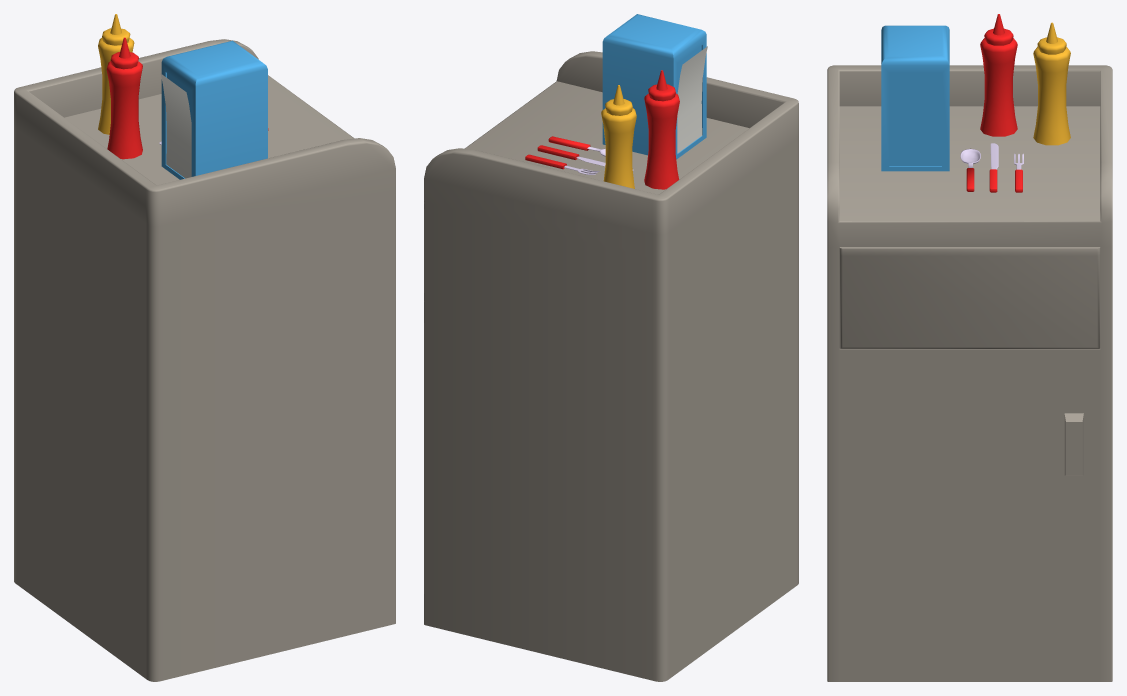
The model's file is service_table.fbx.
The picture shows the model from 3 angles, left to right: view 1: azimuth 30°, elevation 25°; view 2: azimuth 150°, elevation 25°; view 3: azimuth 270°, elevation 25°; orthographic projection. The views are drawn at different scales.
Parts seen in each view (by area): view 1: Trash, Nap_Dispenser, Ketchup, Mustard; view 2: Trash, Nap_Dispenser, Ketchup, Mustard; view 3: Trash, Nap_Dispenser, Mustard, Ketchup, Spoon.
Boxes of the visible parts, x1,y1,x2,y2 form: Trash: (14,39,395,681); Nap_Dispenser: (160,40,267,179); Ketchup: (106,37,142,159); Mustard: (98,14,134,134); Trash: (424,51,798,681); Nap_Dispenser: (602,14,707,159); Ketchup: (644,70,679,189); Mustard: (601,85,636,188); Trash: (827,65,1112,681); Nap_Dispenser: (881,25,949,171); Mustard: (1033,22,1070,145); Ketchup: (980,14,1017,136); Spoon: (960,148,980,191).
Size of the model in its own units: 8.25 by 17.76 by 7.99.
